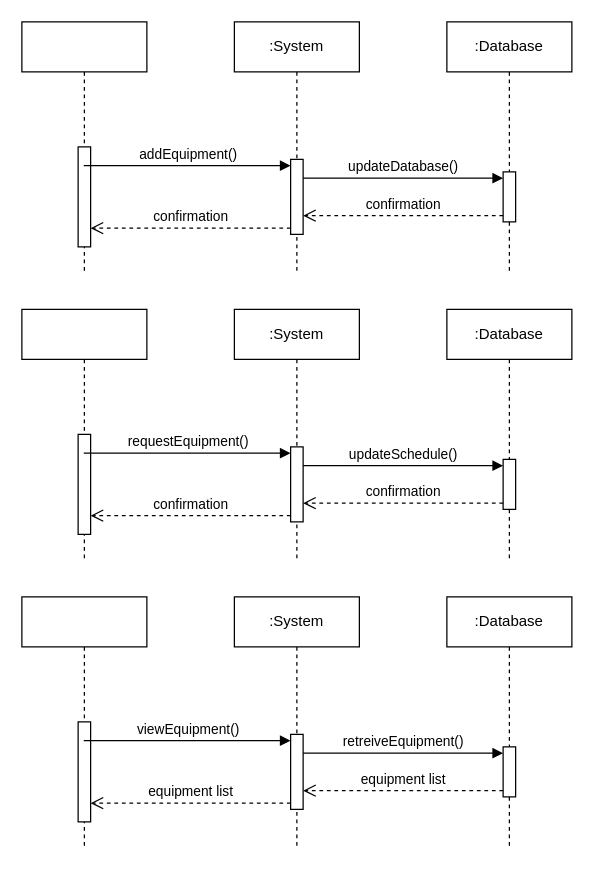
Image size: 594x869. Some labels were removed from this diagram. The shapes that lost their labels are listed below. From the top down, each one's box as (x1, y1, x2, y2) in pixels, then its label:
(21, 21, 147, 272): :Procurement
(21, 308, 147, 559): :Engineer
(21, 596, 147, 847): :Manager
